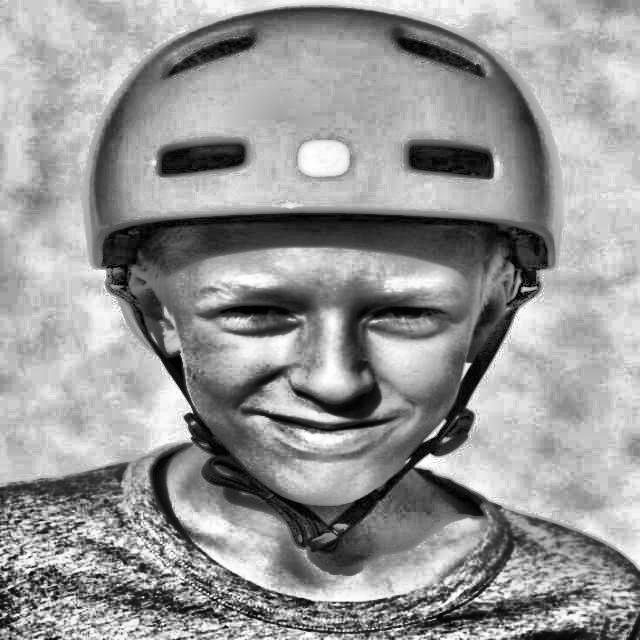Helmet: (75, 0, 572, 568)
